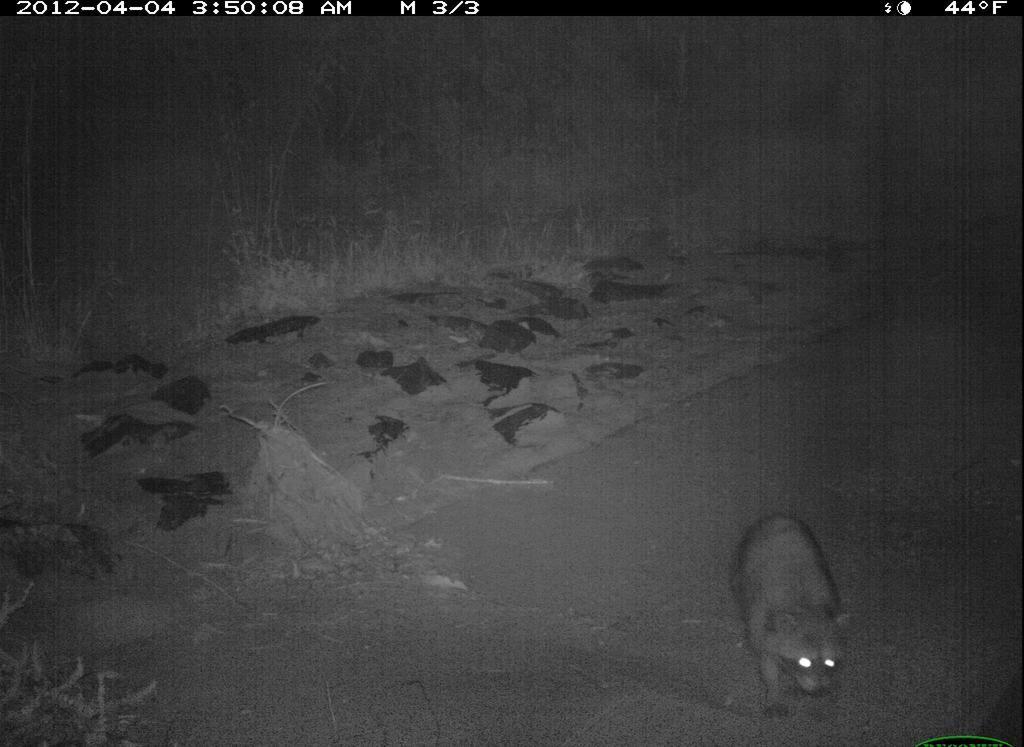raccoon: (724, 510, 853, 712)
